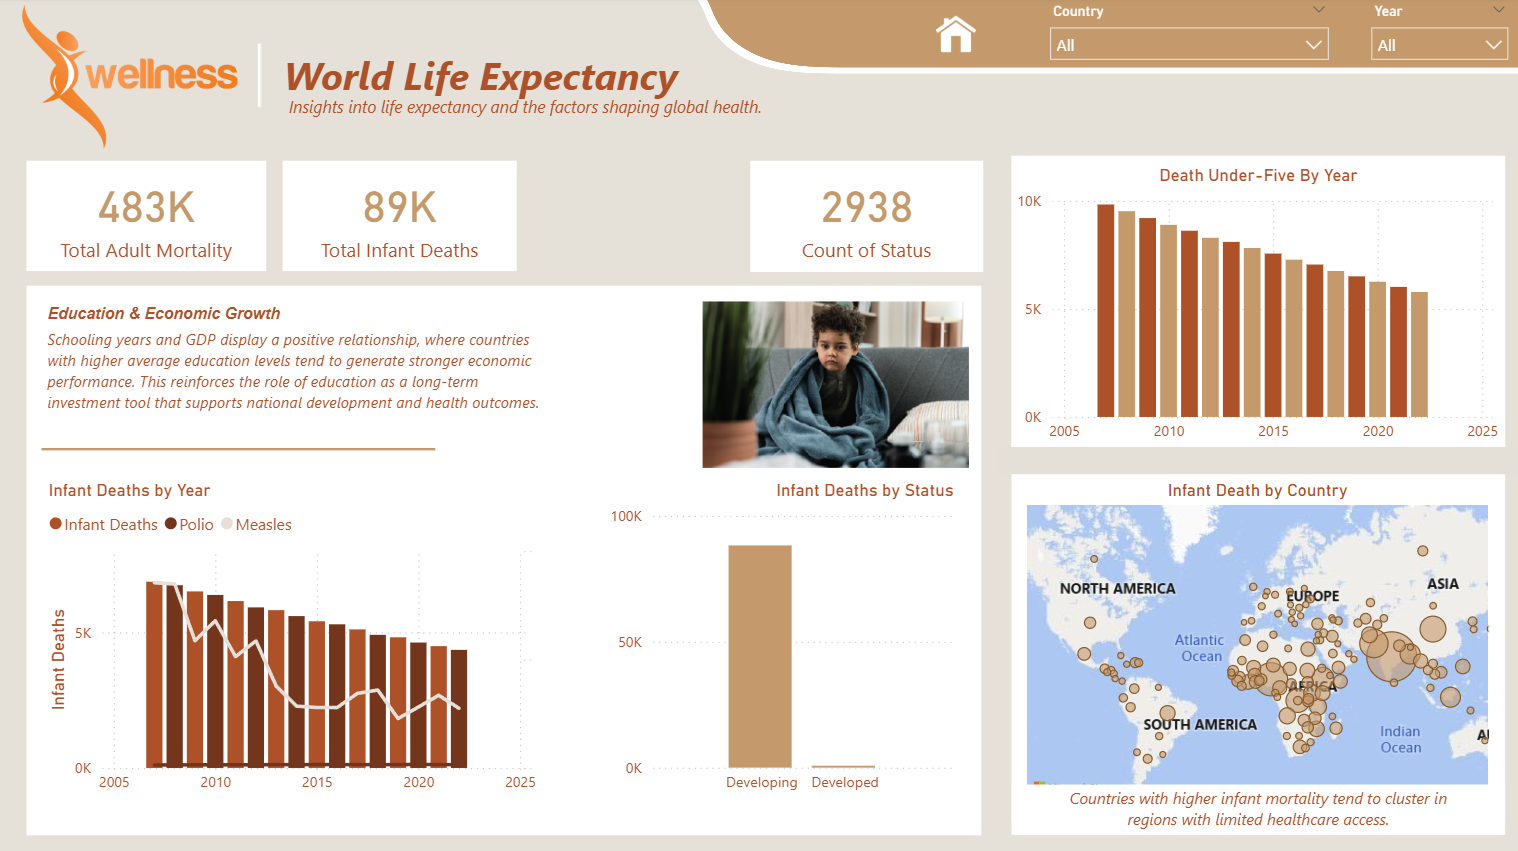

The dashboard page shown, as its layout file describes it:
{"tool":"powerbi","page":{"name":"Infant Statistics Page","canvas":[1280,720],"ordinal":2},"visuals":[{"type":"image","box":[0,0,1280,720.5],"z":0},{"type":"slicer","fields":{"Values":["world_life_expectancy.Year"]},"box":[1144.3,0,135.7,62.4],"z":1000},{"type":"slicer","fields":{"Values":["world_life_expectancy.Country"]},"box":[874.1,0,254.6,54],"z":2000},{"type":"card","fields":{"Values":["Sum(world_life_expectancy.Adult Mortality)"]},"box":[22.7,137.7,201.7,92.5],"z":3000},{"type":"card","fields":{"Values":["Sum(world_life_expectancy.Infant Deaths)"]},"box":[238.8,137.7,196.9,92.5],"z":4000},{"type":"image","box":[782.9,9.6,43.2,43.2],"z":5000},{"type":"image","box":[0,0,219.7,133.3],"z":6000},{"type":"textbox","box":[234.1,38.4,548.7,56.4],"z":7000},{"type":"image","box":[87.7,27.6,264.2,78],"z":8000},{"type":"textbox","box":[238.9,78,453.9,33.6],"z":9000},{"type":"shape","box":[22.8,242.6,803.3,462.3],"z":10000},{"type":"card","fields":{"Values":["CountNonNull(world_life_expectancy.Status)"]},"box":[632,137.4,196.2,93.2],"z":11000},{"type":"shape","box":[851.3,133.3,415.5,571.6],"z":12000},{"type":"textbox","box":[36,251,453.9,49.2],"z":13000},{"type":"textbox","box":[36,273.8,429.9,109.3],"z":14000},{"type":"map","title":"Infant Death by Country","fields":{"Category":["world_life_expectancy.Country"],"Size":["Sum(world_life_expectancy.Infant Deaths)"]},"box":[859.7,405.9,397.4,278.6],"z":15000},{"type":"shape","box":[851.3,662.8,415.5,30],"z":16000},{"type":"columnChart","title":"Infant Deaths by Status","fields":{"Y":["Sum(world_life_expectancy.Infant Deaths)"],"Category":["world_life_expectancy.Status"]},"box":[509.1,405.9,299,272.6],"z":17000},{"type":"lineClusteredColumnComboChart","title":"Infant Deaths by Year","fields":{"Category":["world_life_expectancy.Year"],"Y":["Sum(world_life_expectancy.Infant Deaths)"],"Y2":["Sum(world_life_expectancy.Polio)","Sum(world_life_expectancy.Measles)"]},"box":[37.2,405.9,452.7,272.6],"z":18000},{"type":"columnChart","title":"Death Under-Five By Year","fields":{"Category":["world_life_expectancy.Year"],"Y":["Sum(world_life_expectancy.Under-Five Deaths)"]},"box":[851.3,140.5,415.5,242.6],"z":19000},{"type":"shape","box":[838.1,378.2,440.7,22.8],"z":20000},{"type":"image","box":[581.2,251,245,150.1],"z":21000},{"type":"textbox","box":[860.9,659.2,396.2,50.4],"z":22000},{"type":"shape","box":[36,230.5,331.4,300.2],"z":23000},{"type":"shape","box":[457.5,359,32.4,300.2],"z":23001}]}

Visuals, with their boxes in screenshot pixels (x1, y1, x2, y2), scaled from the page's 1280x720 canvas onto the 1518x851 screenshot:
image: left=0, top=0, right=1517, bottom=850
slicer - world_life_expectancy.Year: left=1357, top=0, right=1517, bottom=74
slicer - world_life_expectancy.Country: left=1037, top=0, right=1339, bottom=64
card - Sum(world_life_expectancy.Adult Mortality): left=27, top=163, right=266, bottom=272
card - Sum(world_life_expectancy.Infant Deaths): left=283, top=163, right=517, bottom=272
image: left=928, top=11, right=980, bottom=62
image: left=0, top=0, right=261, bottom=158
textbox: left=278, top=45, right=928, bottom=112
image: left=104, top=33, right=417, bottom=125
textbox: left=283, top=92, right=822, bottom=132
shape: left=27, top=287, right=980, bottom=833
card - CountNonNull(world_life_expectancy.Status): left=750, top=162, right=982, bottom=273
shape: left=1010, top=158, right=1502, bottom=833
textbox: left=43, top=297, right=581, bottom=355
textbox: left=43, top=324, right=553, bottom=453
"Infant Death by Country" map: left=1020, top=480, right=1491, bottom=809
shape: left=1010, top=783, right=1502, bottom=819
"Infant Deaths by Status" columnChart: left=604, top=480, right=958, bottom=802
"Infant Deaths by Year" lineClusteredColumnComboChart: left=44, top=480, right=581, bottom=802
"Death Under-Five By Year" columnChart: left=1010, top=166, right=1502, bottom=453
shape: left=994, top=447, right=1517, bottom=474
image: left=689, top=297, right=980, bottom=474
textbox: left=1021, top=779, right=1491, bottom=839
shape: left=43, top=272, right=436, bottom=627
shape: left=543, top=424, right=581, bottom=779
